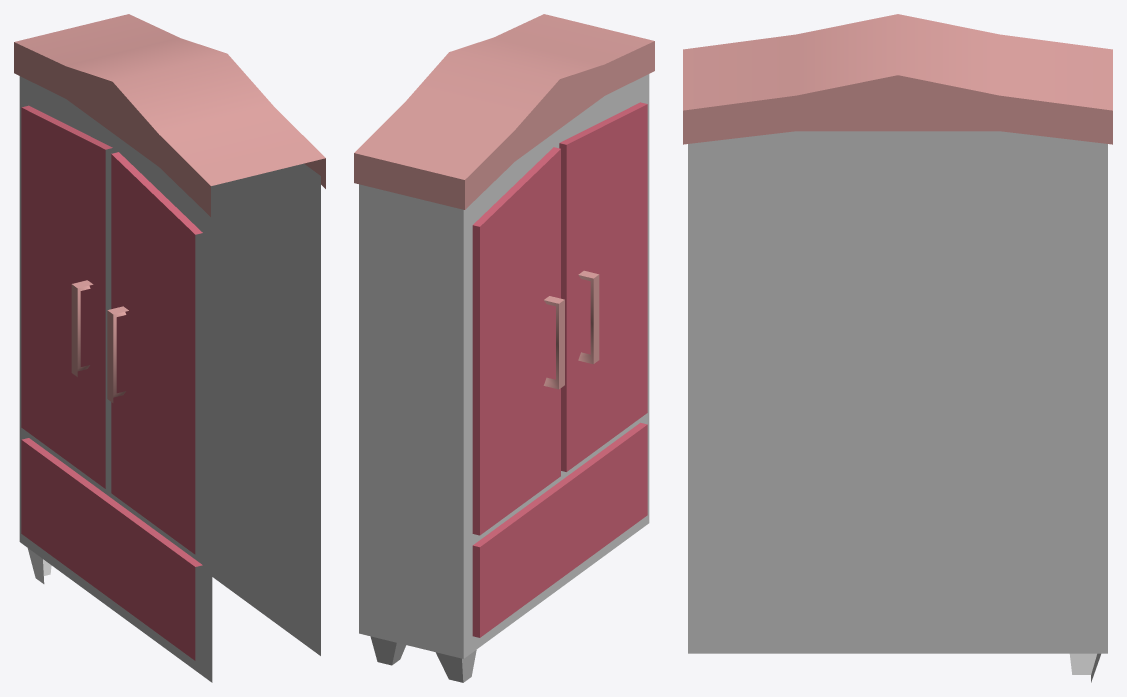
The model's file is interior_C_009.fbx.
3 views of the same model, side by side, from view 1: azimuth 30°, elevation 25°; view 2: azimuth 150°, elevation 25°; view 3: azimuth 270°, elevation 25° (orthographic). The views are drawn at different scales.
Parts seen in each view (by area): view 1: interior_C_009; view 2: interior_C_009; view 3: interior_C_009.
Boxes of the visible parts, box(x1,y1,x2,y2) form: interior_C_009: box(14, 14, 325, 682); interior_C_009: box(354, 14, 654, 682); interior_C_009: box(683, 14, 1112, 682).
Size of the model in its own units: 45.2 by 181 by 114.
